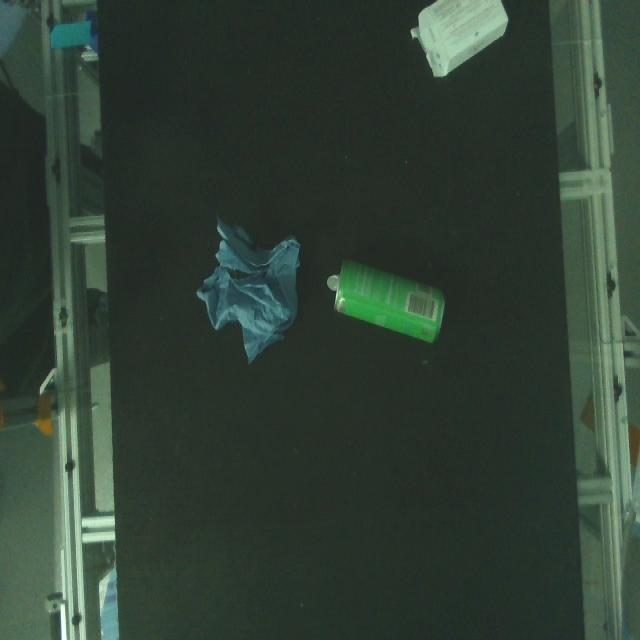non-paper: (326, 246, 455, 347)
paper: (191, 196, 310, 372), (404, 0, 515, 92)
